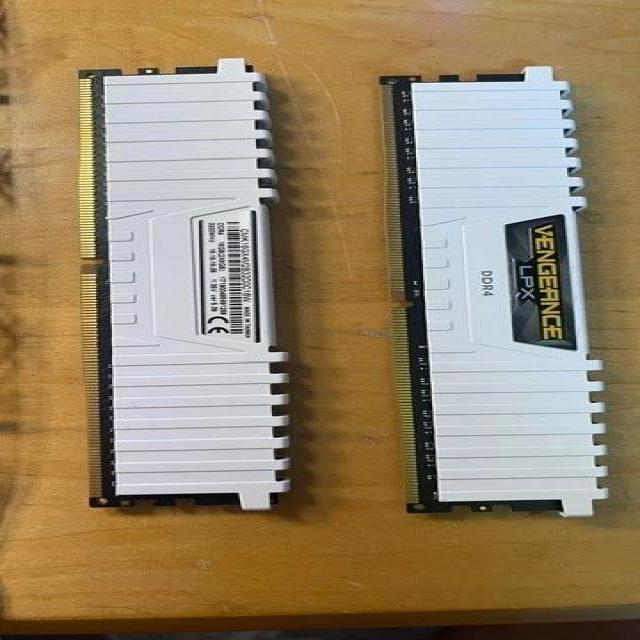RAM: (374, 65, 611, 520), (76, 56, 294, 514)
